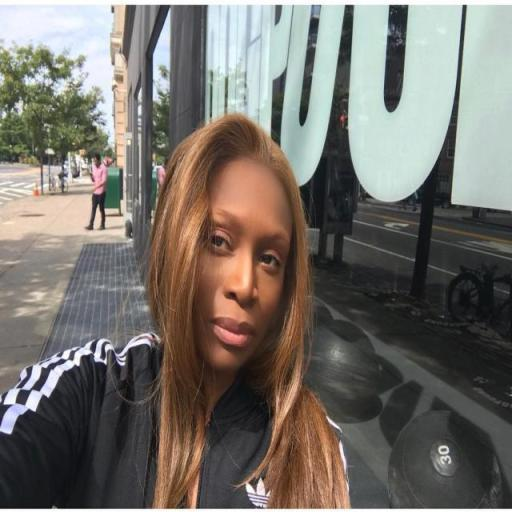Adidas: (240, 473, 274, 510)
